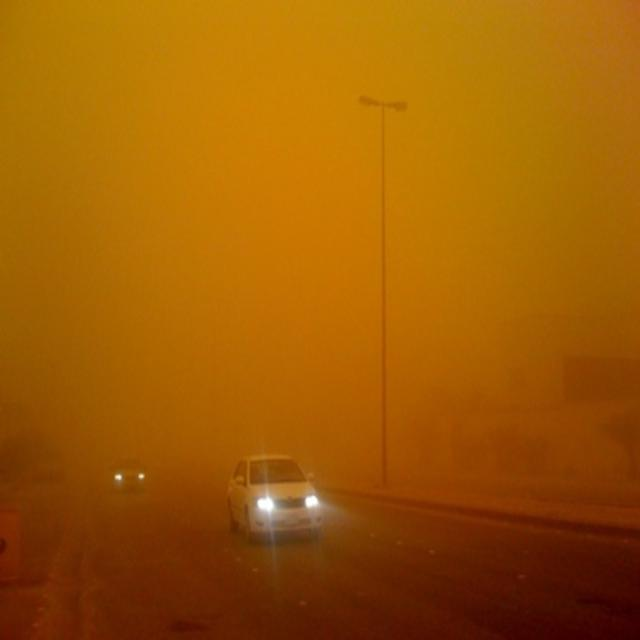car: (228, 454, 322, 547), (110, 457, 146, 492)
